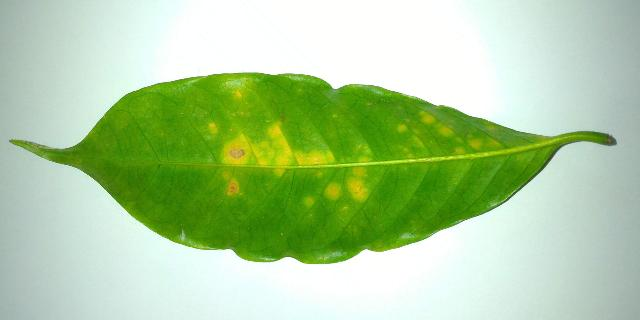miner: (222, 122, 335, 176), (420, 111, 454, 136), (348, 165, 368, 201), (223, 172, 239, 196), (354, 144, 372, 164), (326, 183, 341, 199), (452, 147, 476, 156), (302, 195, 316, 210), (468, 139, 482, 150), (208, 122, 218, 134), (487, 138, 500, 147), (234, 90, 244, 98), (398, 124, 407, 131), (413, 129, 420, 135), (458, 138, 461, 141)
